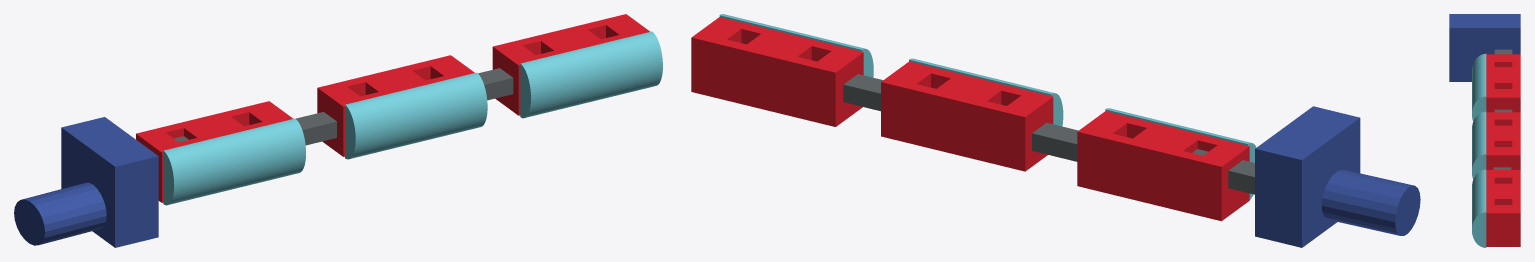
Rendered from tinker.obj.
The picture shows the model from 3 angles, left to right: view 1: azimuth 30°, elevation 25°; view 2: azimuth 150°, elevation 25°; view 3: azimuth 270°, elevation 25°; orthographic projection. The views are drawn at different scales.
Parts seen in each view (by area): view 1: group_0_7720667, group_0_3888547, group_0_15277357, group_0_6383466; view 2: group_0_15277357, group_0_3888547, group_0_6383466, group_0_7720667; view 3: group_0_15277357, group_0_3888547, group_0_7720667, group_0_6383466.
Part boxes in pixels (box(x1,y1,x2,y2)): group_0_7720667: box(163, 31, 662, 205); group_0_3888547: box(14, 117, 158, 247); group_0_15277357: box(136, 14, 649, 202); group_0_6383466: box(174, 68, 513, 145); group_0_15277357: box(691, 17, 1249, 221); group_0_3888547: box(1255, 106, 1420, 247); group_0_6383466: box(843, 74, 1254, 194); group_0_7720667: box(719, 14, 1256, 199); group_0_15277357: box(1486, 54, 1520, 246); group_0_3888547: box(1449, 14, 1520, 81); group_0_7720667: box(1472, 53, 1486, 247); group_0_6383466: box(1493, 49, 1512, 169).
Bounding box in the file's own units: 407 × 50 × 60.
